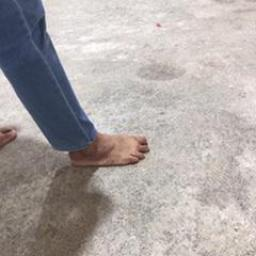Lateral View -Right Foot-: (56, 122, 154, 177)
